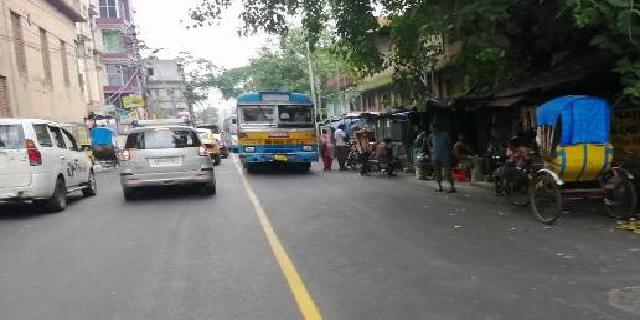Bus: (226, 88, 324, 176)
Car: (3, 114, 98, 207), (115, 119, 220, 201)
Rickshaw: (501, 103, 633, 229)
